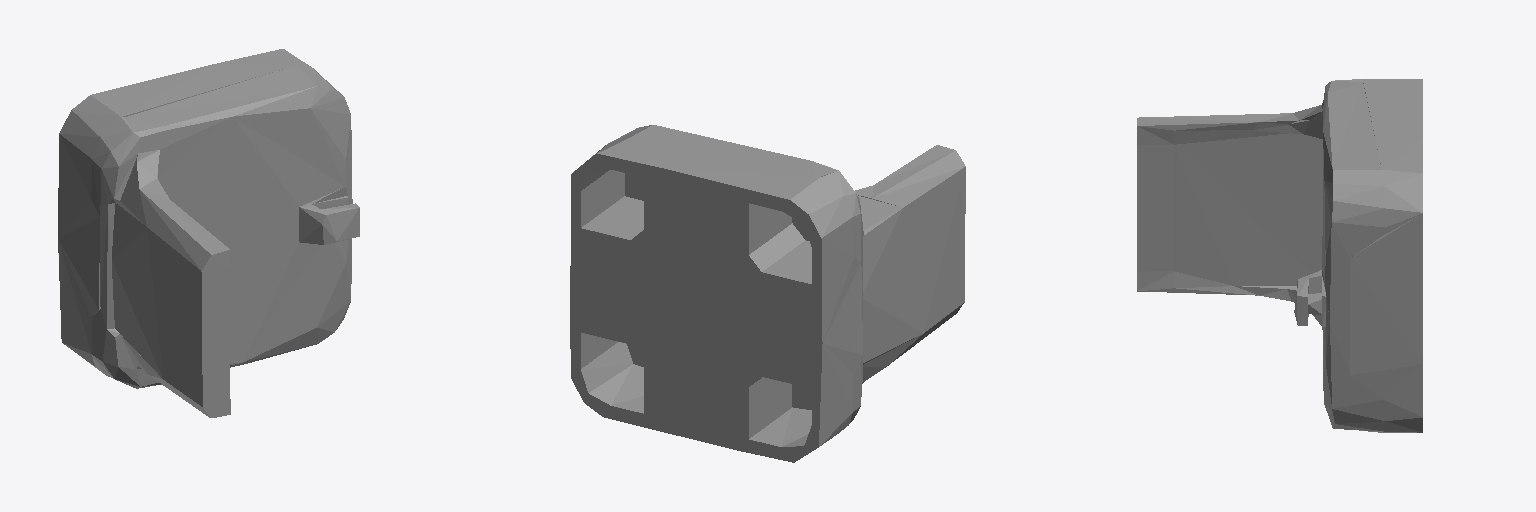
The picture shows the model from 3 angles: view 1: azimuth 30°, elevation 25°; view 2: azimuth 150°, elevation 25°; view 3: azimuth 270°, elevation 25°; orthographic projection.
Visible parts, largest first — view 1: /ambf/env/pr2/base_link_/ambf/env/pr2/base_link_base2_M1KShape.0; view 2: /ambf/env/pr2/base_link_/ambf/env/pr2/base_link_base2_M1KShape.0; view 3: /ambf/env/pr2/base_link_/ambf/env/pr2/base_link_base2_M1KShape.0.
Part boxes in pixels (bbox=[...]): /ambf/env/pr2/base_link_/ambf/env/pr2/base_link_base2_M1KShape.0: bbox=[58, 49, 359, 417]; /ambf/env/pr2/base_link_/ambf/env/pr2/base_link_base2_M1KShape.0: bbox=[570, 125, 965, 462]; /ambf/env/pr2/base_link_/ambf/env/pr2/base_link_base2_M1KShape.0: bbox=[1137, 79, 1422, 432].
Size of the model in its own units: 0.6667 by 0.6668 by 0.6562.